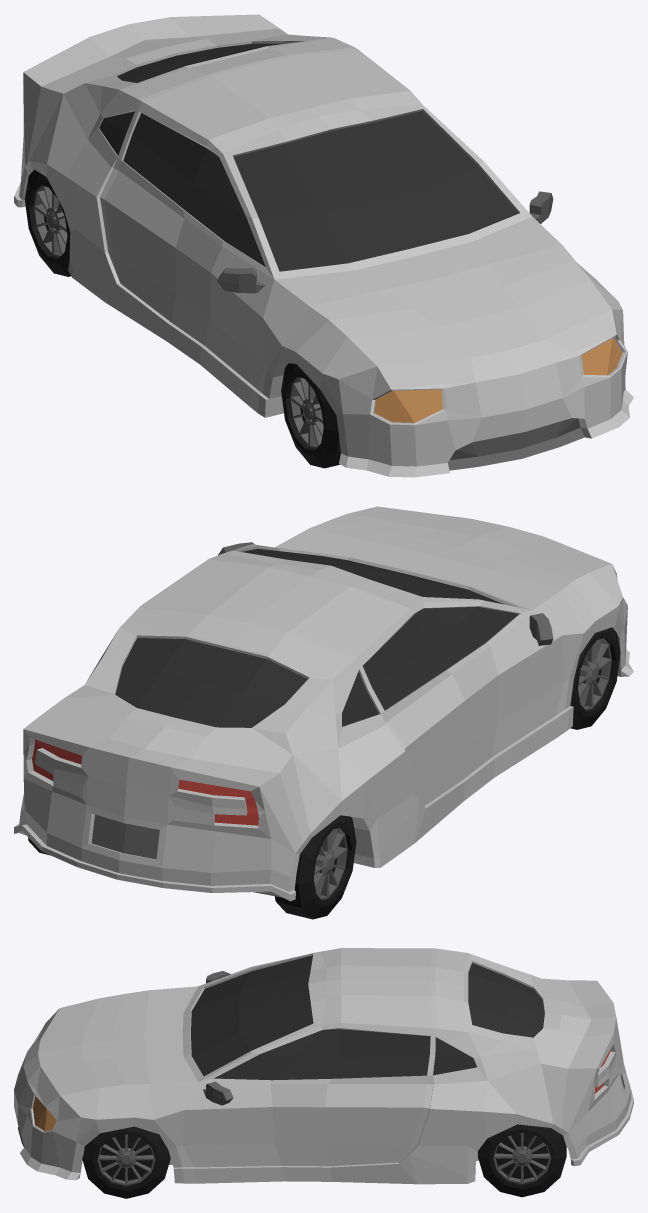
Rendered from sportscar.glb.
3 views of the same model, one above another, from view 1: azimuth 30°, elevation 25°; view 2: azimuth 150°, elevation 25°; view 3: azimuth 270°, elevation 25° (orthographic). The views are drawn at different scales.
Parts seen in each view (by area): view 1: body, wheel_fr, wheel_rr; view 2: body, wheel_rr, wheel_fr; view 3: body, wheel_rl, wheel_fl.
Boxes of the visible parts, x1,y1,x2,y2 form: body: (14, 14, 633, 477); wheel_fr: (281, 363, 340, 468); wheel_rr: (24, 169, 70, 276); body: (14, 506, 633, 901); wheel_rr: (275, 815, 356, 919); wheel_fr: (570, 627, 620, 729); body: (14, 948, 633, 1184); wheel_rl: (478, 1124, 566, 1197); wheel_fl: (82, 1126, 170, 1198).
Bounding box in the file's own units: 1.67 × 1.04 × 3.5.
